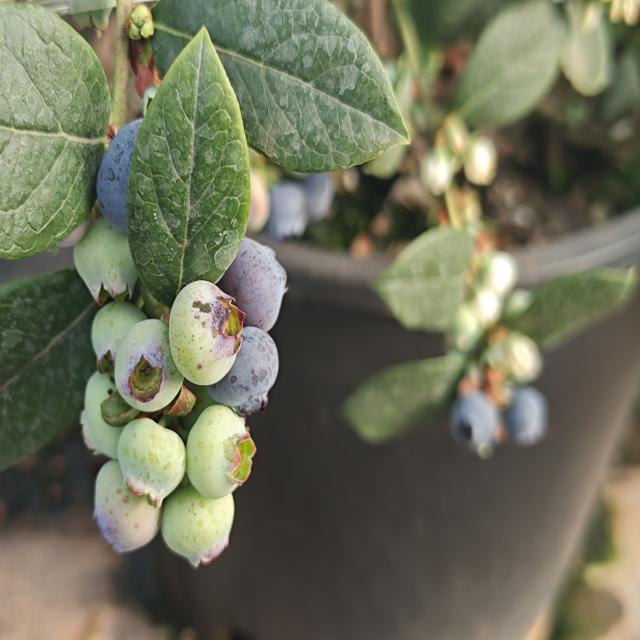ripe: (90, 118, 176, 234), (205, 230, 291, 338), (206, 324, 283, 435), (258, 165, 333, 239), (440, 383, 501, 462), (506, 367, 551, 453)
